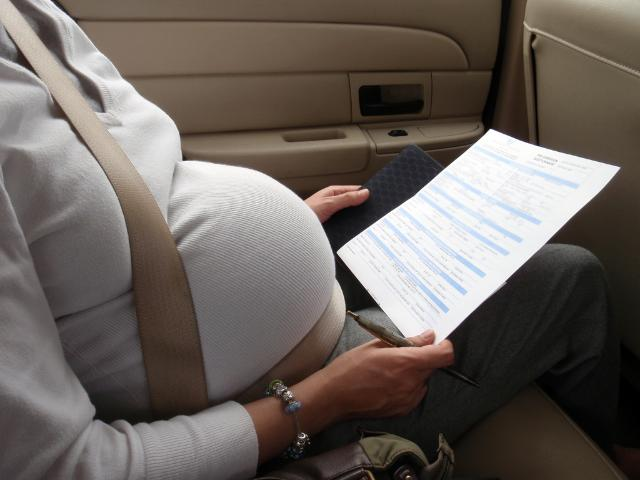Seatbelt: (0, 0, 346, 420)
